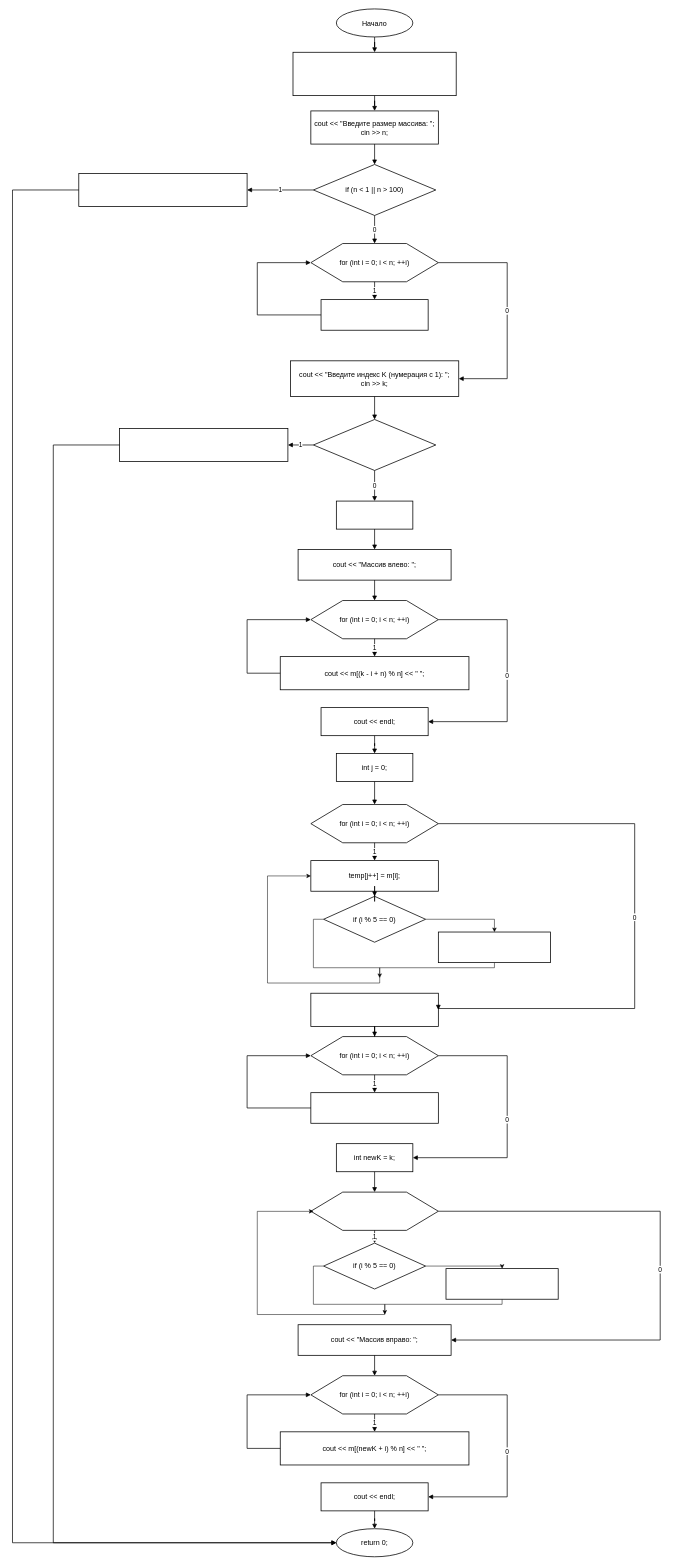
This 674x1566 diagram has some shape labels left out. Each missing label, with the centre of its shape:
cin >> m[i];: [374,314]
const int MAX = 200; int m[MAX], temp[MAX]; int n, k;: [374,74]
cout << "Некорректный индекс K";: [203,445]
cout << "Некорректный размер массива";: [162,190]
for (int i = 0; i < k; ++i): [374,1211]
if (k < 1 || k > n): [374,445]
int oldN = n; n = j;: [374,1010]
k--;: [374,514]
m[i] = temp[i];: [374,1107]
newK++;: [501,1283]
temp[j++] = 0;: [494,947]
